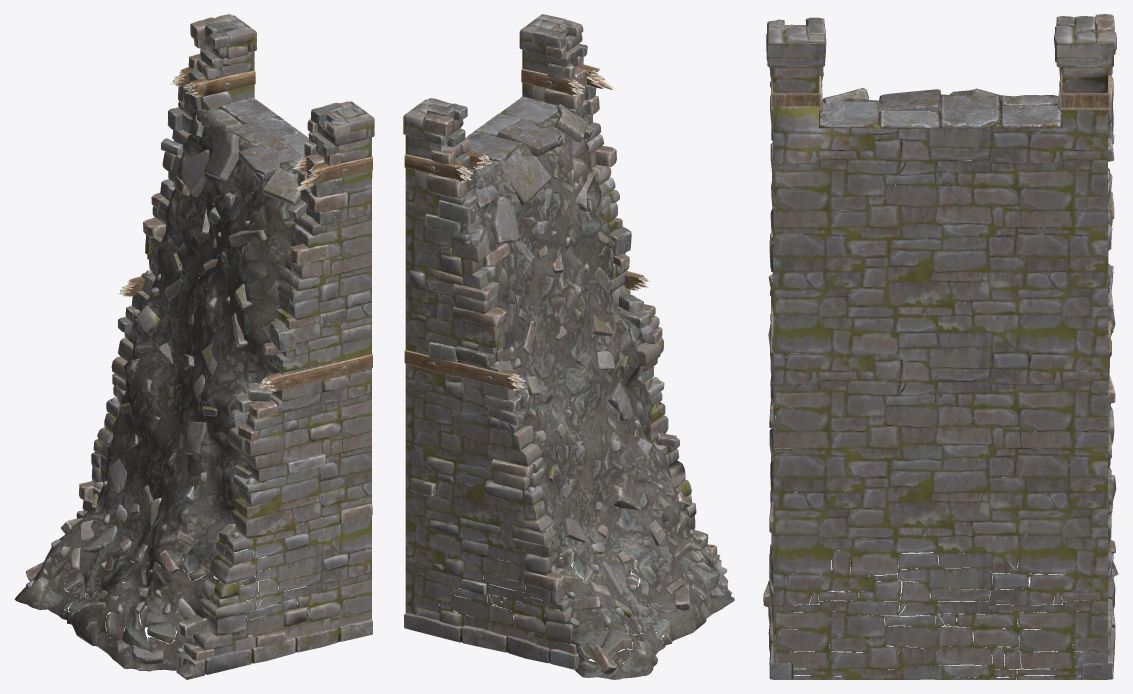
3 renders of one model, left to right at view 1: azimuth 30°, elevation 25°; view 2: azimuth 150°, elevation 25°; view 3: azimuth 270°, elevation 25°, orthographic. The views are drawn at different scales.
Visible parts, largest first — view 1: SM_Castle_Wall_4x12_01_Dmg_v7_LOD0; view 2: SM_Castle_Wall_4x12_01_Dmg_v7_LOD0; view 3: SM_Castle_Wall_4x12_01_Dmg_v7_LOD0.
Part boxes in pixels (x1,y1,x2,y2): SM_Castle_Wall_4x12_01_Dmg_v7_LOD0: [14, 14, 374, 679]; SM_Castle_Wall_4x12_01_Dmg_v7_LOD0: [403, 14, 734, 679]; SM_Castle_Wall_4x12_01_Dmg_v7_LOD0: [763, 14, 1118, 679].
Size of the model in its own units: 5.44 by 11.71 by 5.83.
Materials: 5 (5 with a texture image).
